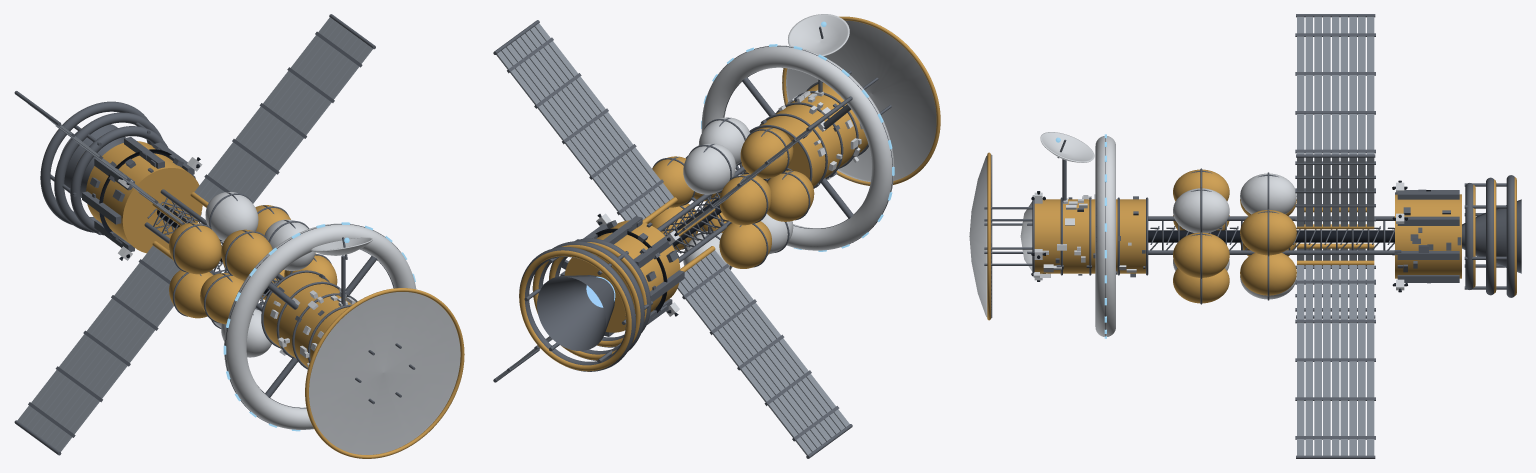
File: orion-01.glb
The picture shows the model from 3 angles, left to right: view 1: azimuth 30°, elevation 25°; view 2: azimuth 150°, elevation 25°; view 3: azimuth 270°, elevation 25°; orthographic projection. The views are drawn at different scales.
Visible parts, largest first — view 1: radiators_radiator, shield_ceramic, hab_paint, drive_titanium, tanks_foil, drive_foil, hab_foil, tanks_paint, radiators_titanium, shield_foil, hab_titanium, spine_titanium (+4 smaller); view 2: radiators_radiator, drive_titanium, hab_paint, shield_ceramic, tanks_foil, drive_foil, tanks_paint, hab_foil, radiators_titanium, hab_titanium, comms_paint, spine_titanium (+5 smaller); view 3: radiators_radiator, tanks_foil, drive_titanium, hab_foil, hab_paint, radiators_titanium, drive_foil, tanks_paint, spine_titanium, shield_ceramic, spine_dark, hab_titanium (+5 smaller).
Part boxes in pixels (<box>): radiators_radiator: <box>17,17,372,451</box>; shield_ceramic: <box>309,292,460,454</box>; hab_paint: <box>224,223,416,429</box>; drive_titanium: <box>40,101,201,251</box>; tanks_foil: <box>169,205,337,324</box>; drive_foil: <box>48,130,202,253</box>; hab_foil: <box>263,272,355,367</box>; tanks_paint: <box>205,192,315,357</box>; radiators_titanium: <box>14,14,375,455</box>; shield_foil: <box>305,288,464,458</box>; hab_titanium: <box>261,256,377,397</box>; spine_titanium: <box>144,189,283,311</box>; radiators_radiator: <box>496,23,849,455</box>; drive_titanium: <box>519,216,684,371</box>; hab_paint: <box>701,45,894,250</box>; shield_ceramic: <box>783,20,936,184</box>; tanks_foil: <box>647,127,814,268</box>; drive_foil: <box>519,220,680,371</box>; tanks_paint: <box>683,117,793,268</box>; hab_foil: <box>741,82,867,186</box>; radiators_titanium: <box>493,20,852,458</box>; hab_titanium: <box>739,77,868,218</box>; comms_paint: <box>788,14,849,56</box>; spine_titanium: <box>657,166,791,262</box>; radiators_radiator: <box>1297,16,1374,455</box>; tanks_foil: <box>1173,169,1296,303</box>; drive_titanium: <box>1394,175,1521,297</box>; hab_foil: <box>1034,199,1145,273</box>; hab_paint: <box>1020,136,1136,336</box>; radiators_titanium: <box>1295,14,1375,458</box>; drive_foil: <box>1395,177,1516,295</box>; tanks_paint: <box>1173,173,1296,299</box>; spine_titanium: <box>1148,216,1394,254</box>; shield_ceramic: <box>969,154,992,318</box>; spine_dark: <box>1148,230,1394,242</box>; hab_titanium: <box>1032,196,1148,277</box>.
Size of the model in its own units: 6.5 by 6.5 by 10.69.
3 materials, 3 textured.
